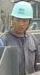hard-hat: (0, 0, 20, 19)
ppe-suit: (0, 0, 1, 2)
vest: (0, 0, 1, 2)
